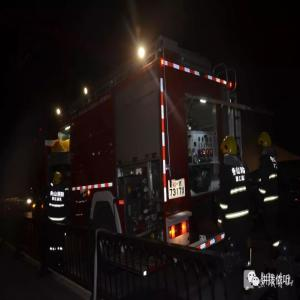yellow: (221, 136, 239, 164), (259, 132, 273, 157), (54, 171, 65, 188)
